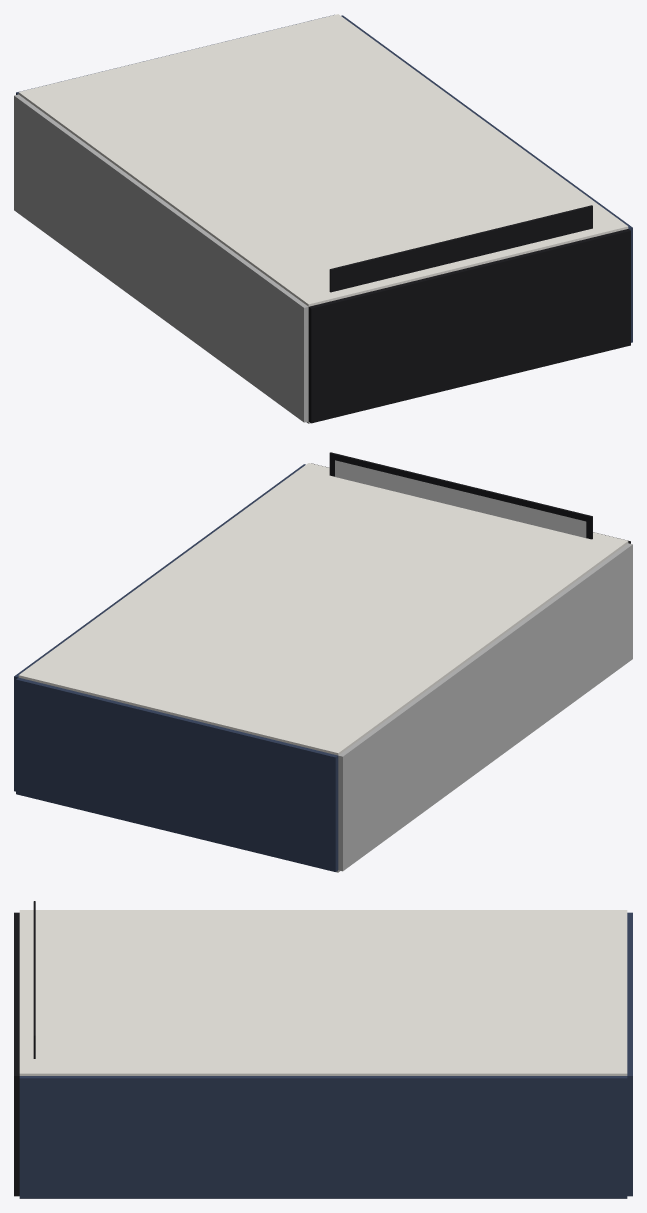
The model's file is HomeTheater.fbx.
The picture shows the model from 3 angles, top to bottom: view 1: azimuth 30°, elevation 25°; view 2: azimuth 150°, elevation 25°; view 3: azimuth 270°, elevation 25°; orthographic projection. The views are drawn at different scales.
Parts seen in each view (by area): view 1: Ceiling, Wall_Front, Wall_Left, ScreenFrame, Wall_Right; view 2: Ceiling, Wall_Back, Wall_Left, MovieScreen, ScreenFrame, Wall_Right; view 3: Ceiling, Wall_Right, Wall_Back, Wall_Front, Floor, ScreenFrame.
Part boxes in pixels (left/top/right/bottom): Ceiling: left=18, top=14, right=628, bottom=306; Wall_Front: left=308, top=229, right=630, bottom=423; Wall_Left: left=14, top=94, right=308, bottom=422; ScreenFrame: left=329, top=205, right=592, bottom=292; Wall_Right: left=341, top=15, right=632, bottom=342; Ceiling: left=18, top=463, right=628, bottom=755; Wall_Back: left=16, top=677, right=338, bottom=871; Wall_Left: left=338, top=543, right=632, bottom=871; MovieScreen: left=335, top=460, right=586, bottom=537; ScreenFrame: left=329, top=452, right=592, bottom=539; Wall_Right: left=14, top=464, right=305, bottom=791; Ceiling: left=19, top=910, right=627, bottom=1075; Wall_Right: left=19, top=1076, right=627, bottom=1198; Wall_Back: left=627, top=912, right=632, bottom=1196; Wall_Front: left=14, top=912, right=19, bottom=1196; Floor: left=20, top=1198, right=626, bottom=1198; ScreenFrame: left=33, top=901, right=35, bottom=1058.
Bounding box in the file's own units: 1440 × 595 × 2240.
